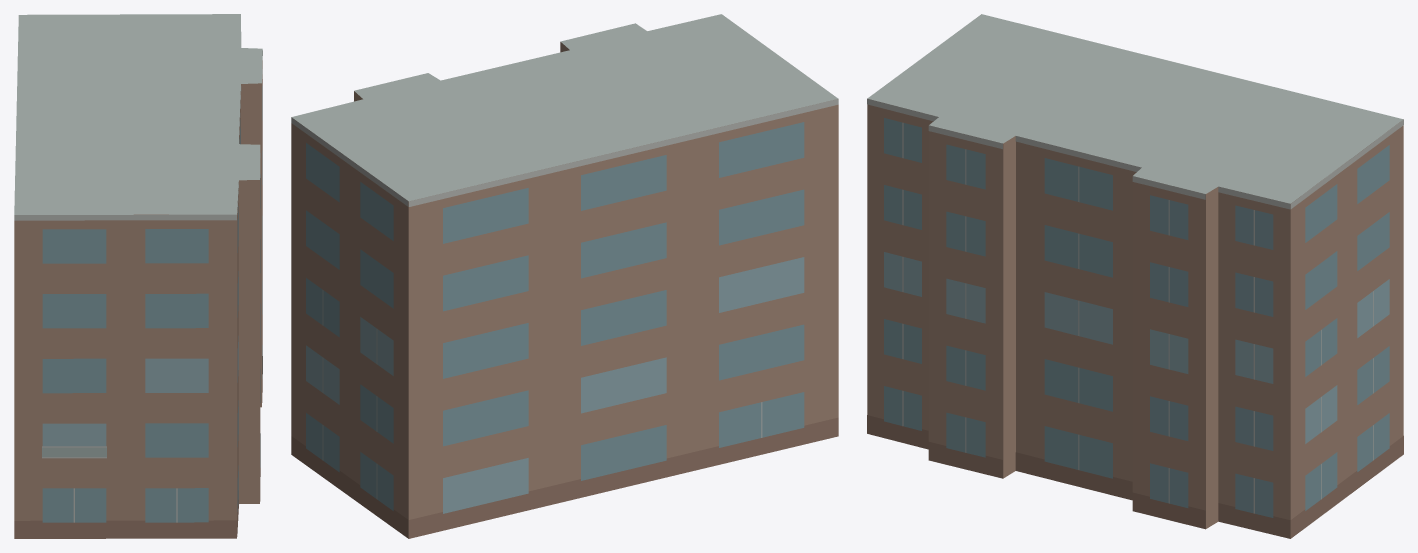
The model's file is survey-upis-32680317.glb.
3 views of the same model, side by side, from view 1: azimuth 30°, elevation 25°; view 2: azimuth 150°, elevation 25°; view 3: azimuth 270°, elevation 25° (orthographic). The views are drawn at different scales.
Visible parts, largest first — view 1: survey-upis-32680317.tmp; view 2: survey-upis-32680317.tmp; view 3: survey-upis-32680317.tmp.
Part boxes in pixels (x1,y1,x2,y2): survey-upis-32680317.tmp: [14, 14, 262, 538]; survey-upis-32680317.tmp: [291, 14, 838, 538]; survey-upis-32680317.tmp: [867, 14, 1403, 538].
Bounding box in the file's own units: 17.13 × 14.1 × 20.47.
